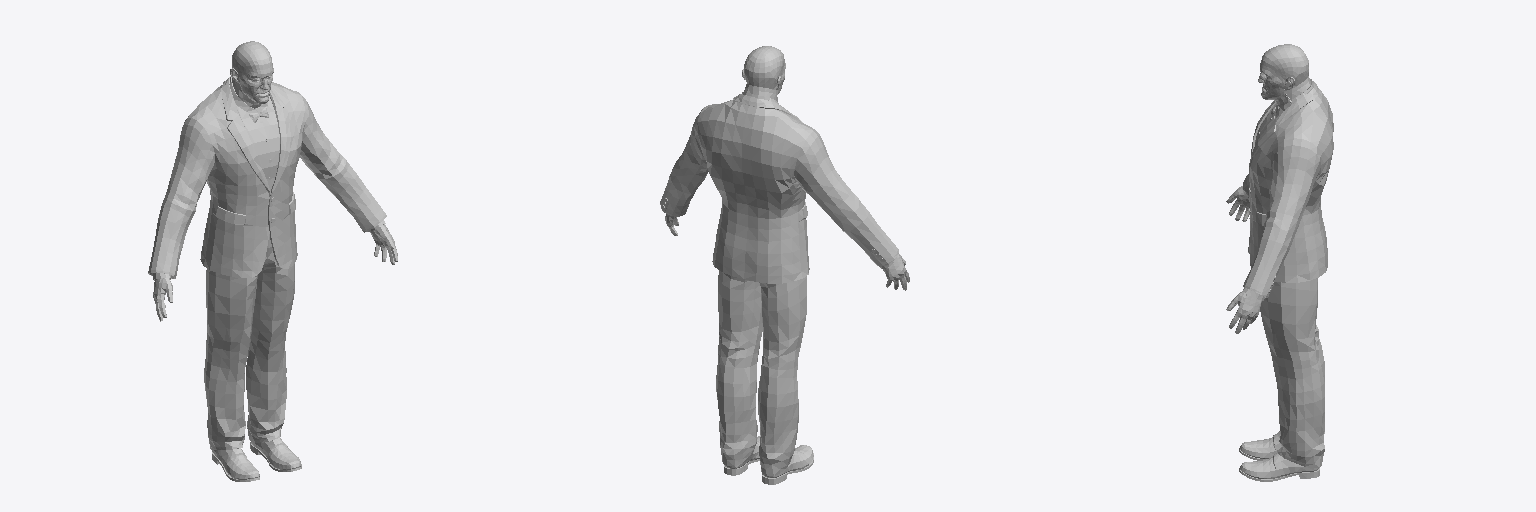
File: doorman.obj
3 views of the same model, side by side, from view 1: azimuth 30°, elevation 25°; view 2: azimuth 150°, elevation 25°; view 3: azimuth 270°, elevation 25° (orthographic).
Visible parts, largest first — view 1: polySurface26 polySurface31, polySurface26 polySurface33, polySurface26 polySurface28, polySurface26 polySurface38, polySurface26 polySurface32, polySurface26 polySurface30, polySurface27 polySurface26, polySurface26 polySurface29; view 2: polySurface26 polySurface31, polySurface26 polySurface33, polySurface26 polySurface28, polySurface26 polySurface32, polySurface26 polySurface29; view 3: polySurface26 polySurface31, polySurface26 polySurface33, polySurface26 polySurface28, polySurface26 polySurface30, polySurface27 polySurface26, polySurface26 polySurface32.
Boxes of the visible parts, <box> form: polySurface26 polySurface31: <box>148,76,386,278</box>; polySurface26 polySurface33: <box>204,234,294,449</box>; polySurface26 polySurface28: <box>230,41,273,108</box>; polySurface26 polySurface38: <box>229,77,279,190</box>; polySurface26 polySurface32: <box>212,448,259,481</box>; polySurface26 polySurface30: <box>250,438,301,471</box>; polySurface27 polySurface26: <box>370,224,397,264</box>; polySurface26 polySurface29: <box>153,278,172,321</box>; polySurface26 polySurface31: <box>660,94,898,283</box>; polySurface26 polySurface33: <box>716,270,806,475</box>; polySurface26 polySurface28: <box>742,46,785,101</box>; polySurface26 polySurface32: <box>762,445,813,484</box>; polySurface26 polySurface29: <box>883,253,909,290</box>; polySurface26 polySurface31: <box>1243,81,1333,297</box>; polySurface26 polySurface33: <box>1260,278,1324,467</box>; polySurface26 polySurface28: <box>1258,44,1310,107</box>; polySurface26 polySurface30: <box>1239,452,1319,481</box>; polySurface27 polySurface26: <box>1226,291,1261,333</box>; polySurface26 polySurface32: <box>1239,434,1281,460</box>.
Bounding box in the file's own units: 3.62 × 6.11 × 1.42.